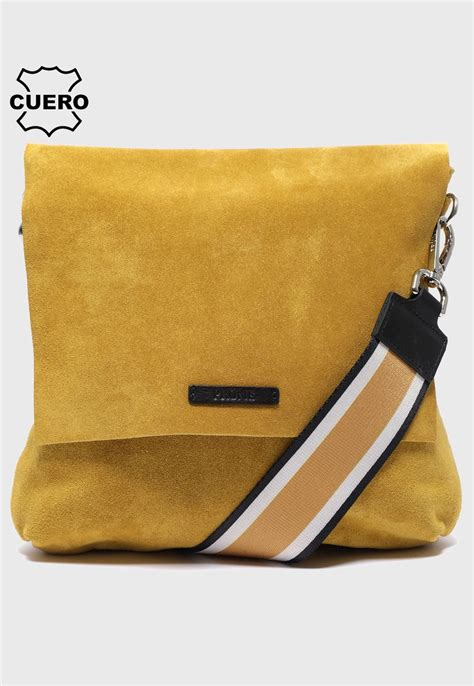gamuza: (9, 141, 460, 551)
